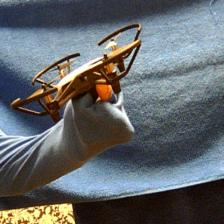drone: (10, 23, 144, 127)
